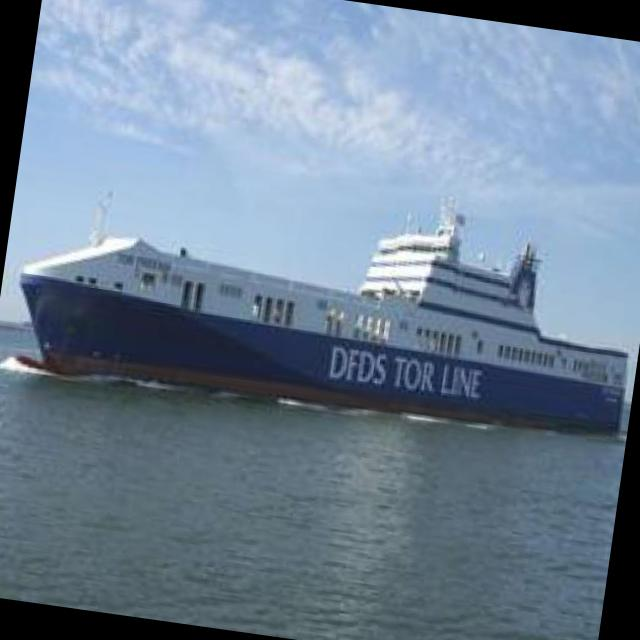boat: (0, 196, 638, 452)
